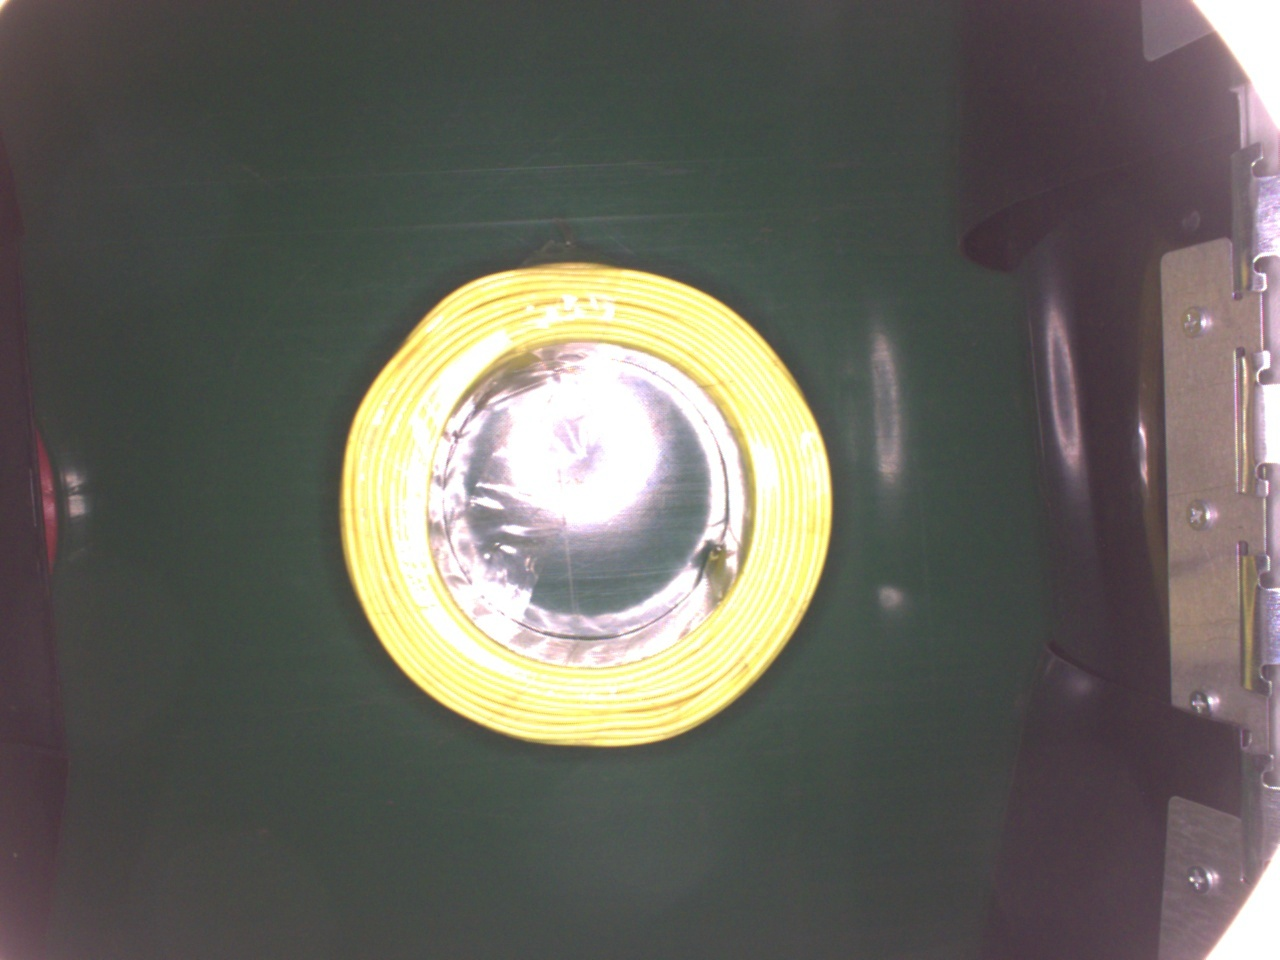yellow: (338, 257, 834, 752)
